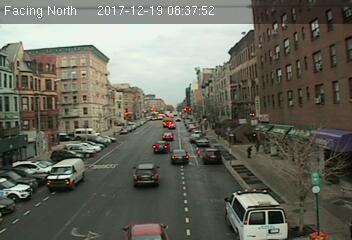car: (132, 163, 160, 186), (200, 147, 222, 163), (169, 149, 190, 165), (152, 141, 171, 155), (161, 131, 174, 142), (195, 137, 208, 146)
police: (221, 187, 292, 239)
truck: (45, 158, 86, 190)
